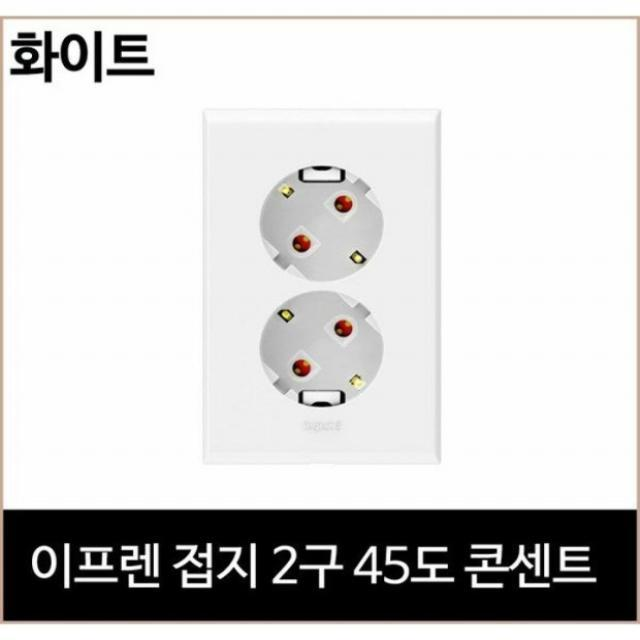typeb: (168, 97, 488, 491)
